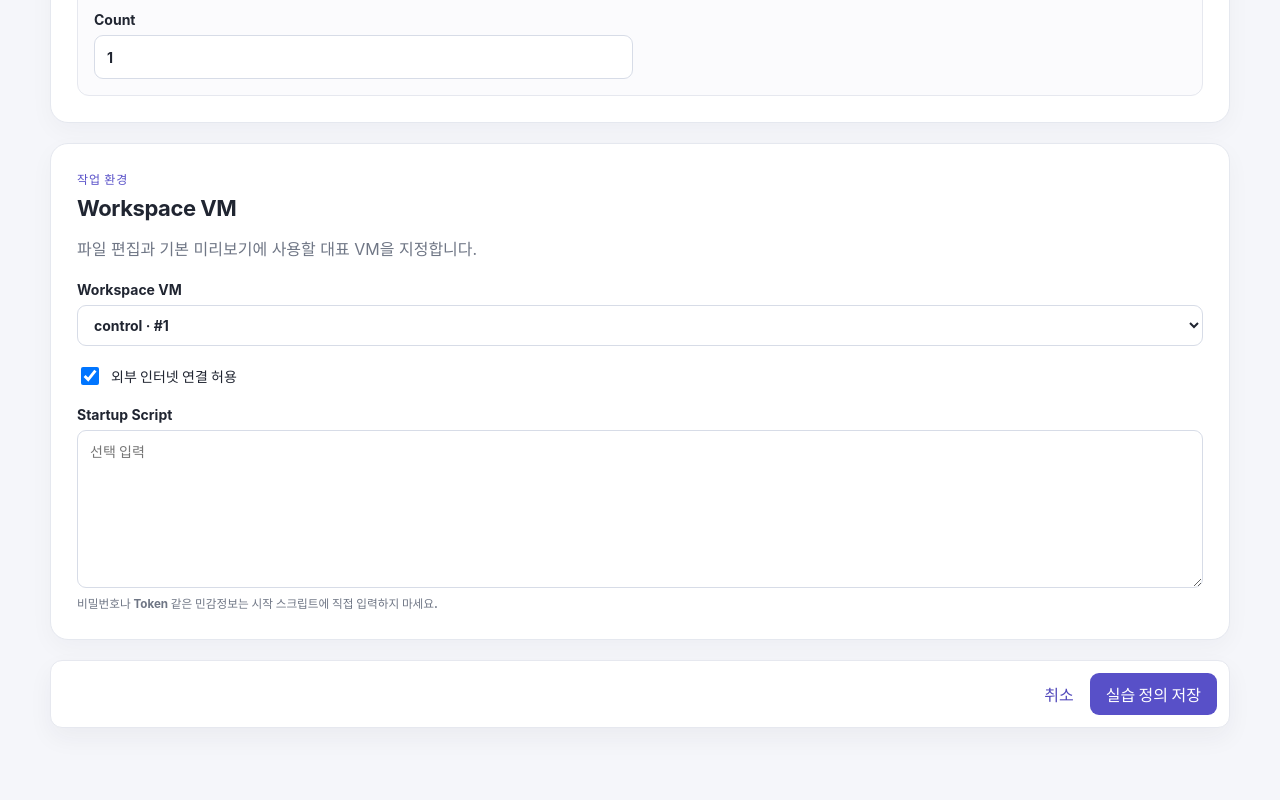
Auth·Class·LabSpec routing › LabSpec stale update 412를 덮어쓰지 않고 안내한다
(page scrolled)
What coordinates should you click on to do the following:
click the button "실습 정의 저장"
I would click on:
 (1153, 694)
Its box is left=1090, top=674, right=1217, bottom=716.
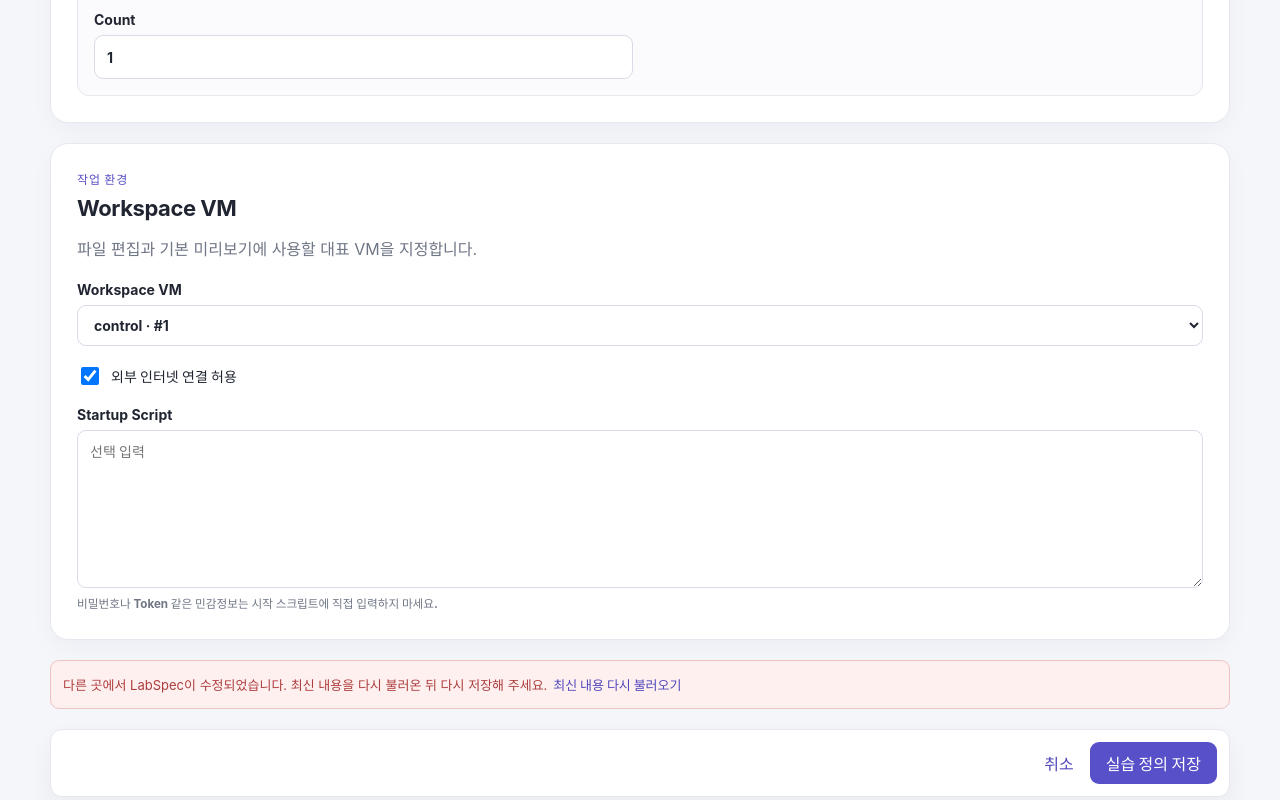
Expected: the text "다른 곳에서 LabSpec이 수정되었습니다. 최신 내용을 다시 불러온 뒤 다시 저장해 주세요." is shown, left=63, top=678, right=547, bottom=694
